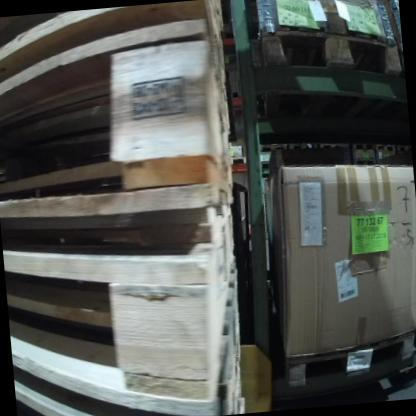pallet: (0, 29, 222, 226), (4, 226, 223, 416), (258, 17, 403, 89), (281, 331, 416, 390), (261, 141, 289, 155), (352, 139, 375, 153), (354, 156, 377, 167), (375, 143, 395, 153), (396, 141, 412, 152)
